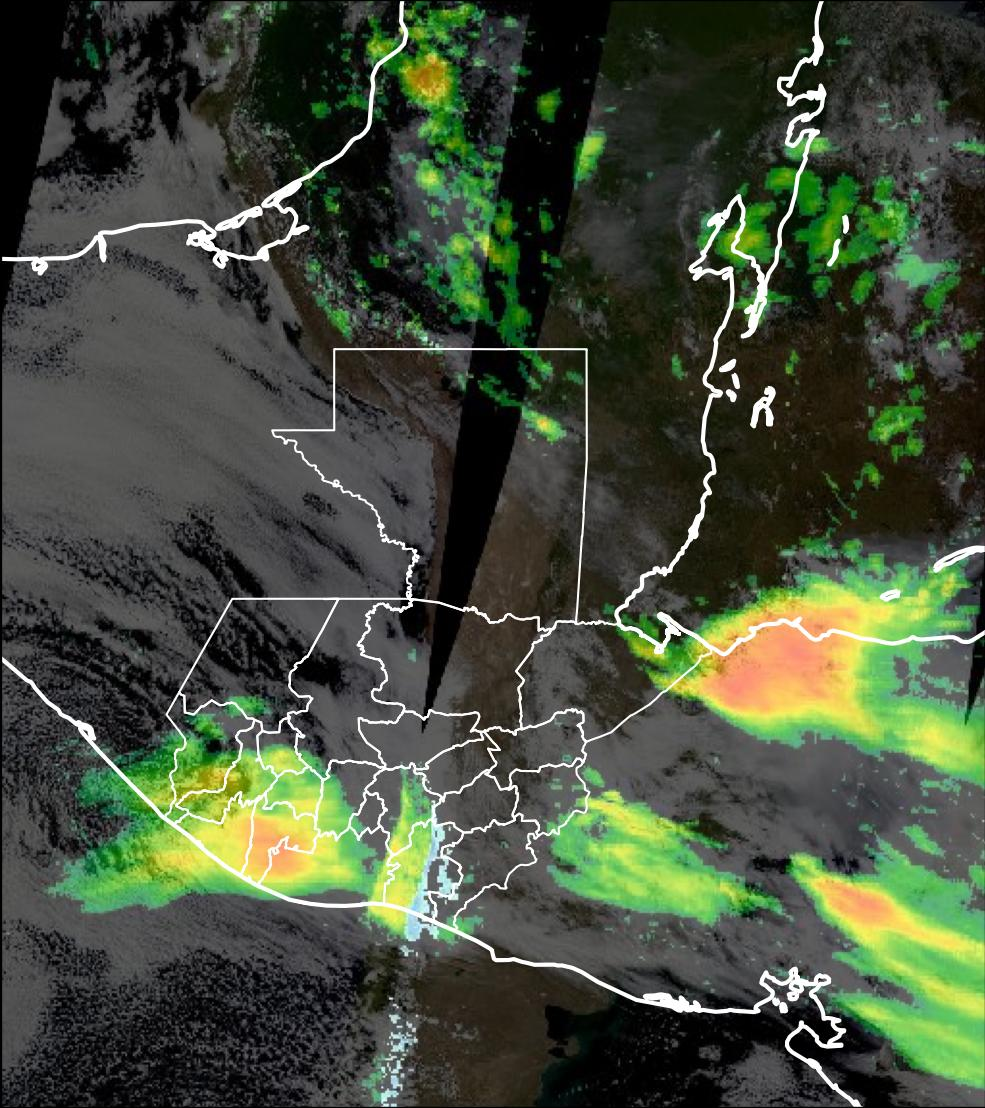precipitacion: (673, 593, 884, 742), (808, 857, 985, 974), (228, 807, 343, 891)
